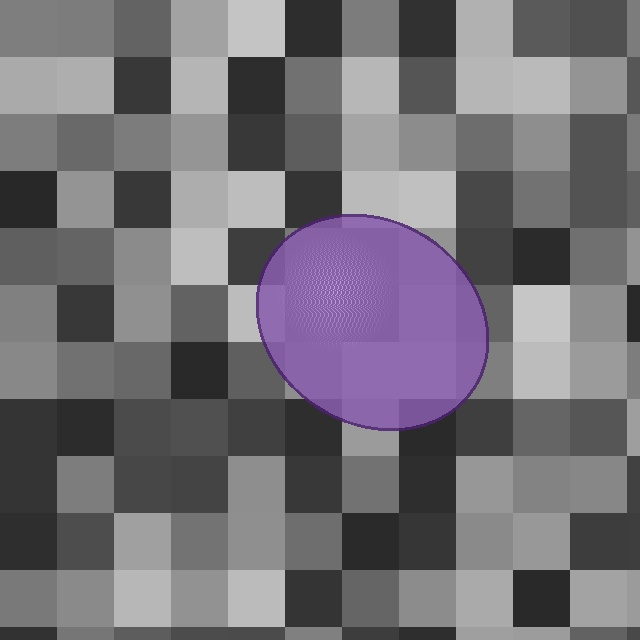lens: (257, 216, 487, 428)
